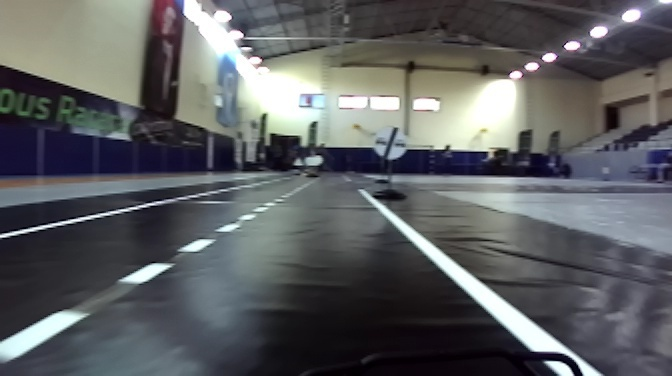sollama_serbest: (371, 124, 408, 160)
